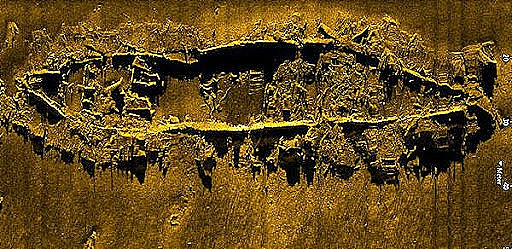ship: (14, 22, 493, 163)
